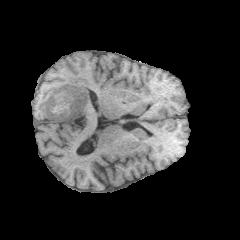glioma: (37, 74, 95, 121)
